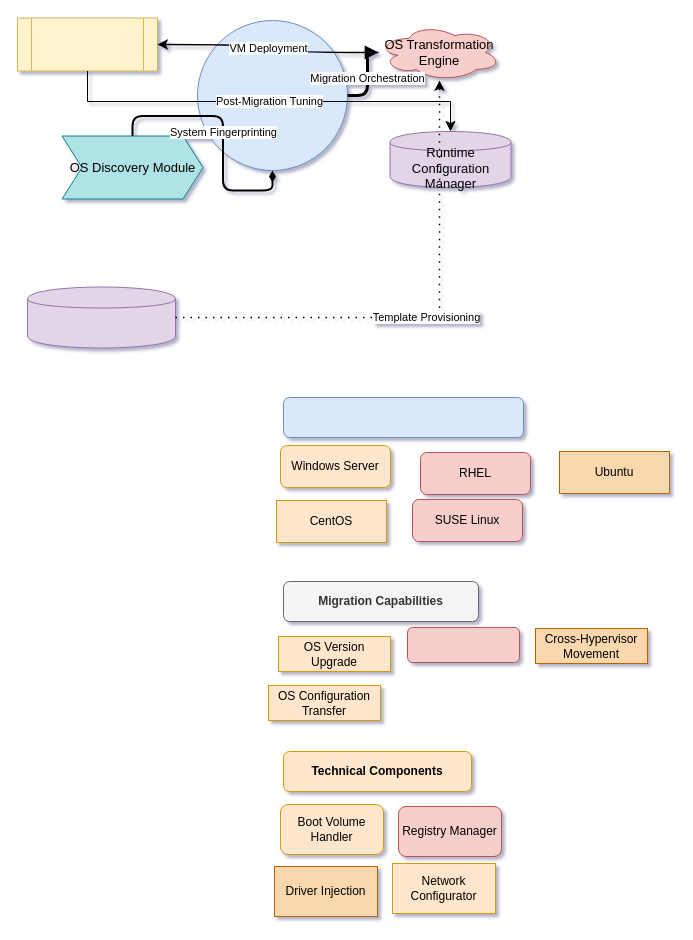
The diagram is 693 pixels wide and 940 high, and some of its shapes have lost their labels. Here are the shapes that lost their labels. From the top down, the box of each, then its label:
(16, 17, 158, 71): Hypervisor Connector
(196, 20, 348, 170): RiverMeadow Platform
(26, 286, 176, 348): OS Template Repository
(282, 396, 524, 438): Supported OS Types
(406, 626, 520, 662): P2V Conversion
